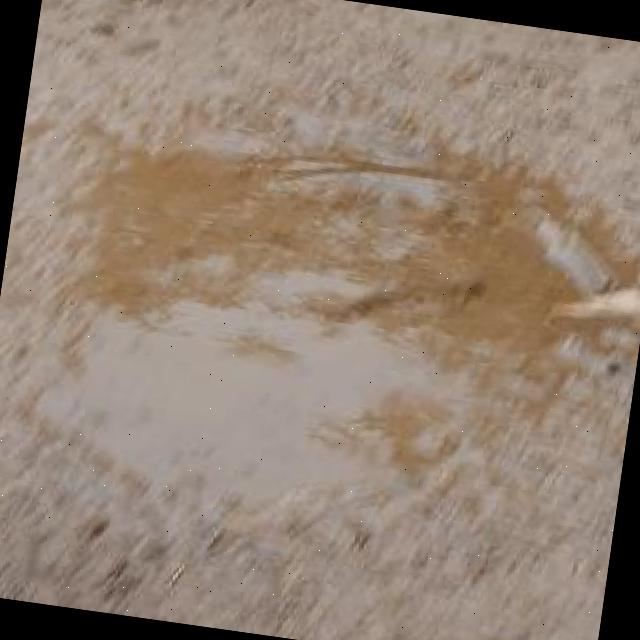stagnation: (0, 94, 640, 565)
